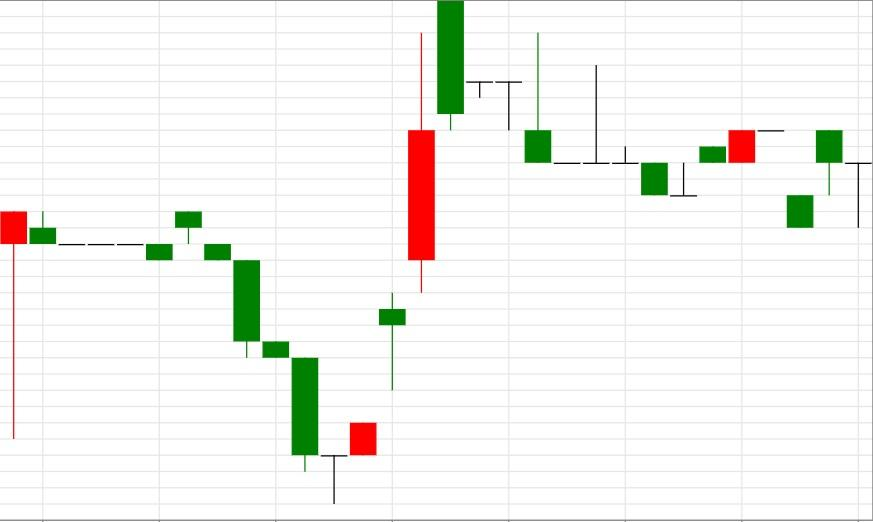morning_star_rise: (175, 210, 378, 504)
